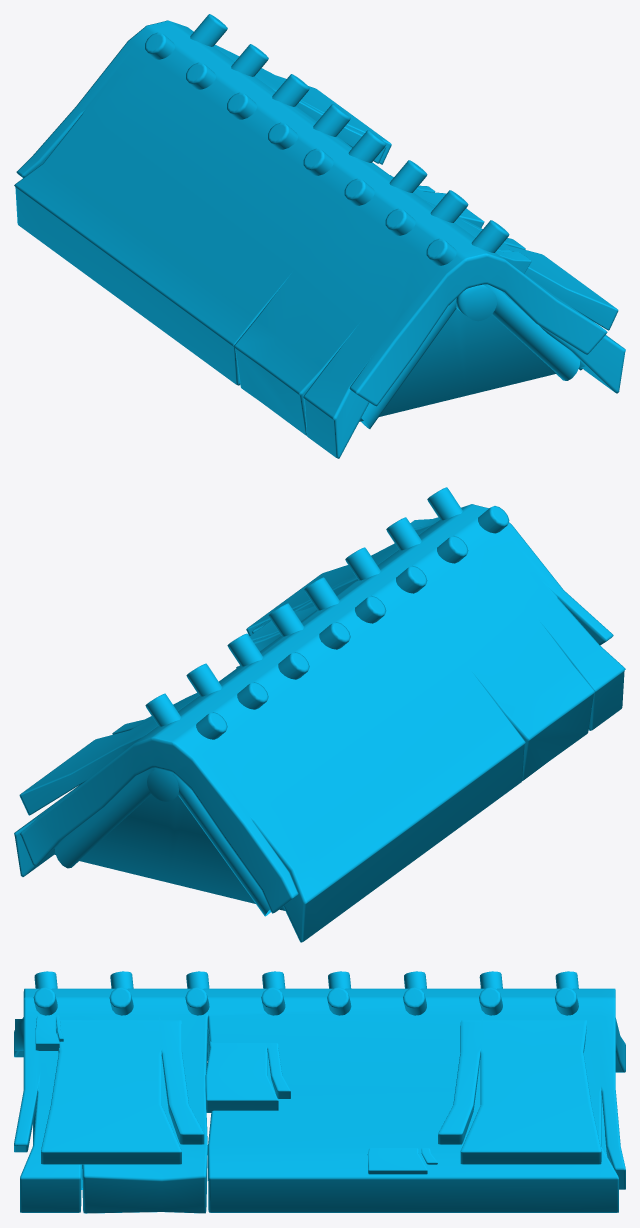
The model's file is SM_Clay_Roof_03.fbx.
3 renders of one model, top to bottom at view 1: azimuth 30°, elevation 25°; view 2: azimuth 150°, elevation 25°; view 3: azimuth 270°, elevation 25°, orthographic. The views are drawn at different scales.
Parts seen in each view (by area): view 1: SM_Clay_Roof_03; view 2: SM_Clay_Roof_03; view 3: SM_Clay_Roof_03.
Boxes of the visible parts, left/top/right/bottom form: SM_Clay_Roof_03: left=14, top=14, right=625, bottom=458; SM_Clay_Roof_03: left=14, top=487, right=625, bottom=942; SM_Clay_Roof_03: left=14, top=971, right=625, bottom=1213.
Bounding box in the file's own units: 1.05 × 0.644 × 2.02.
